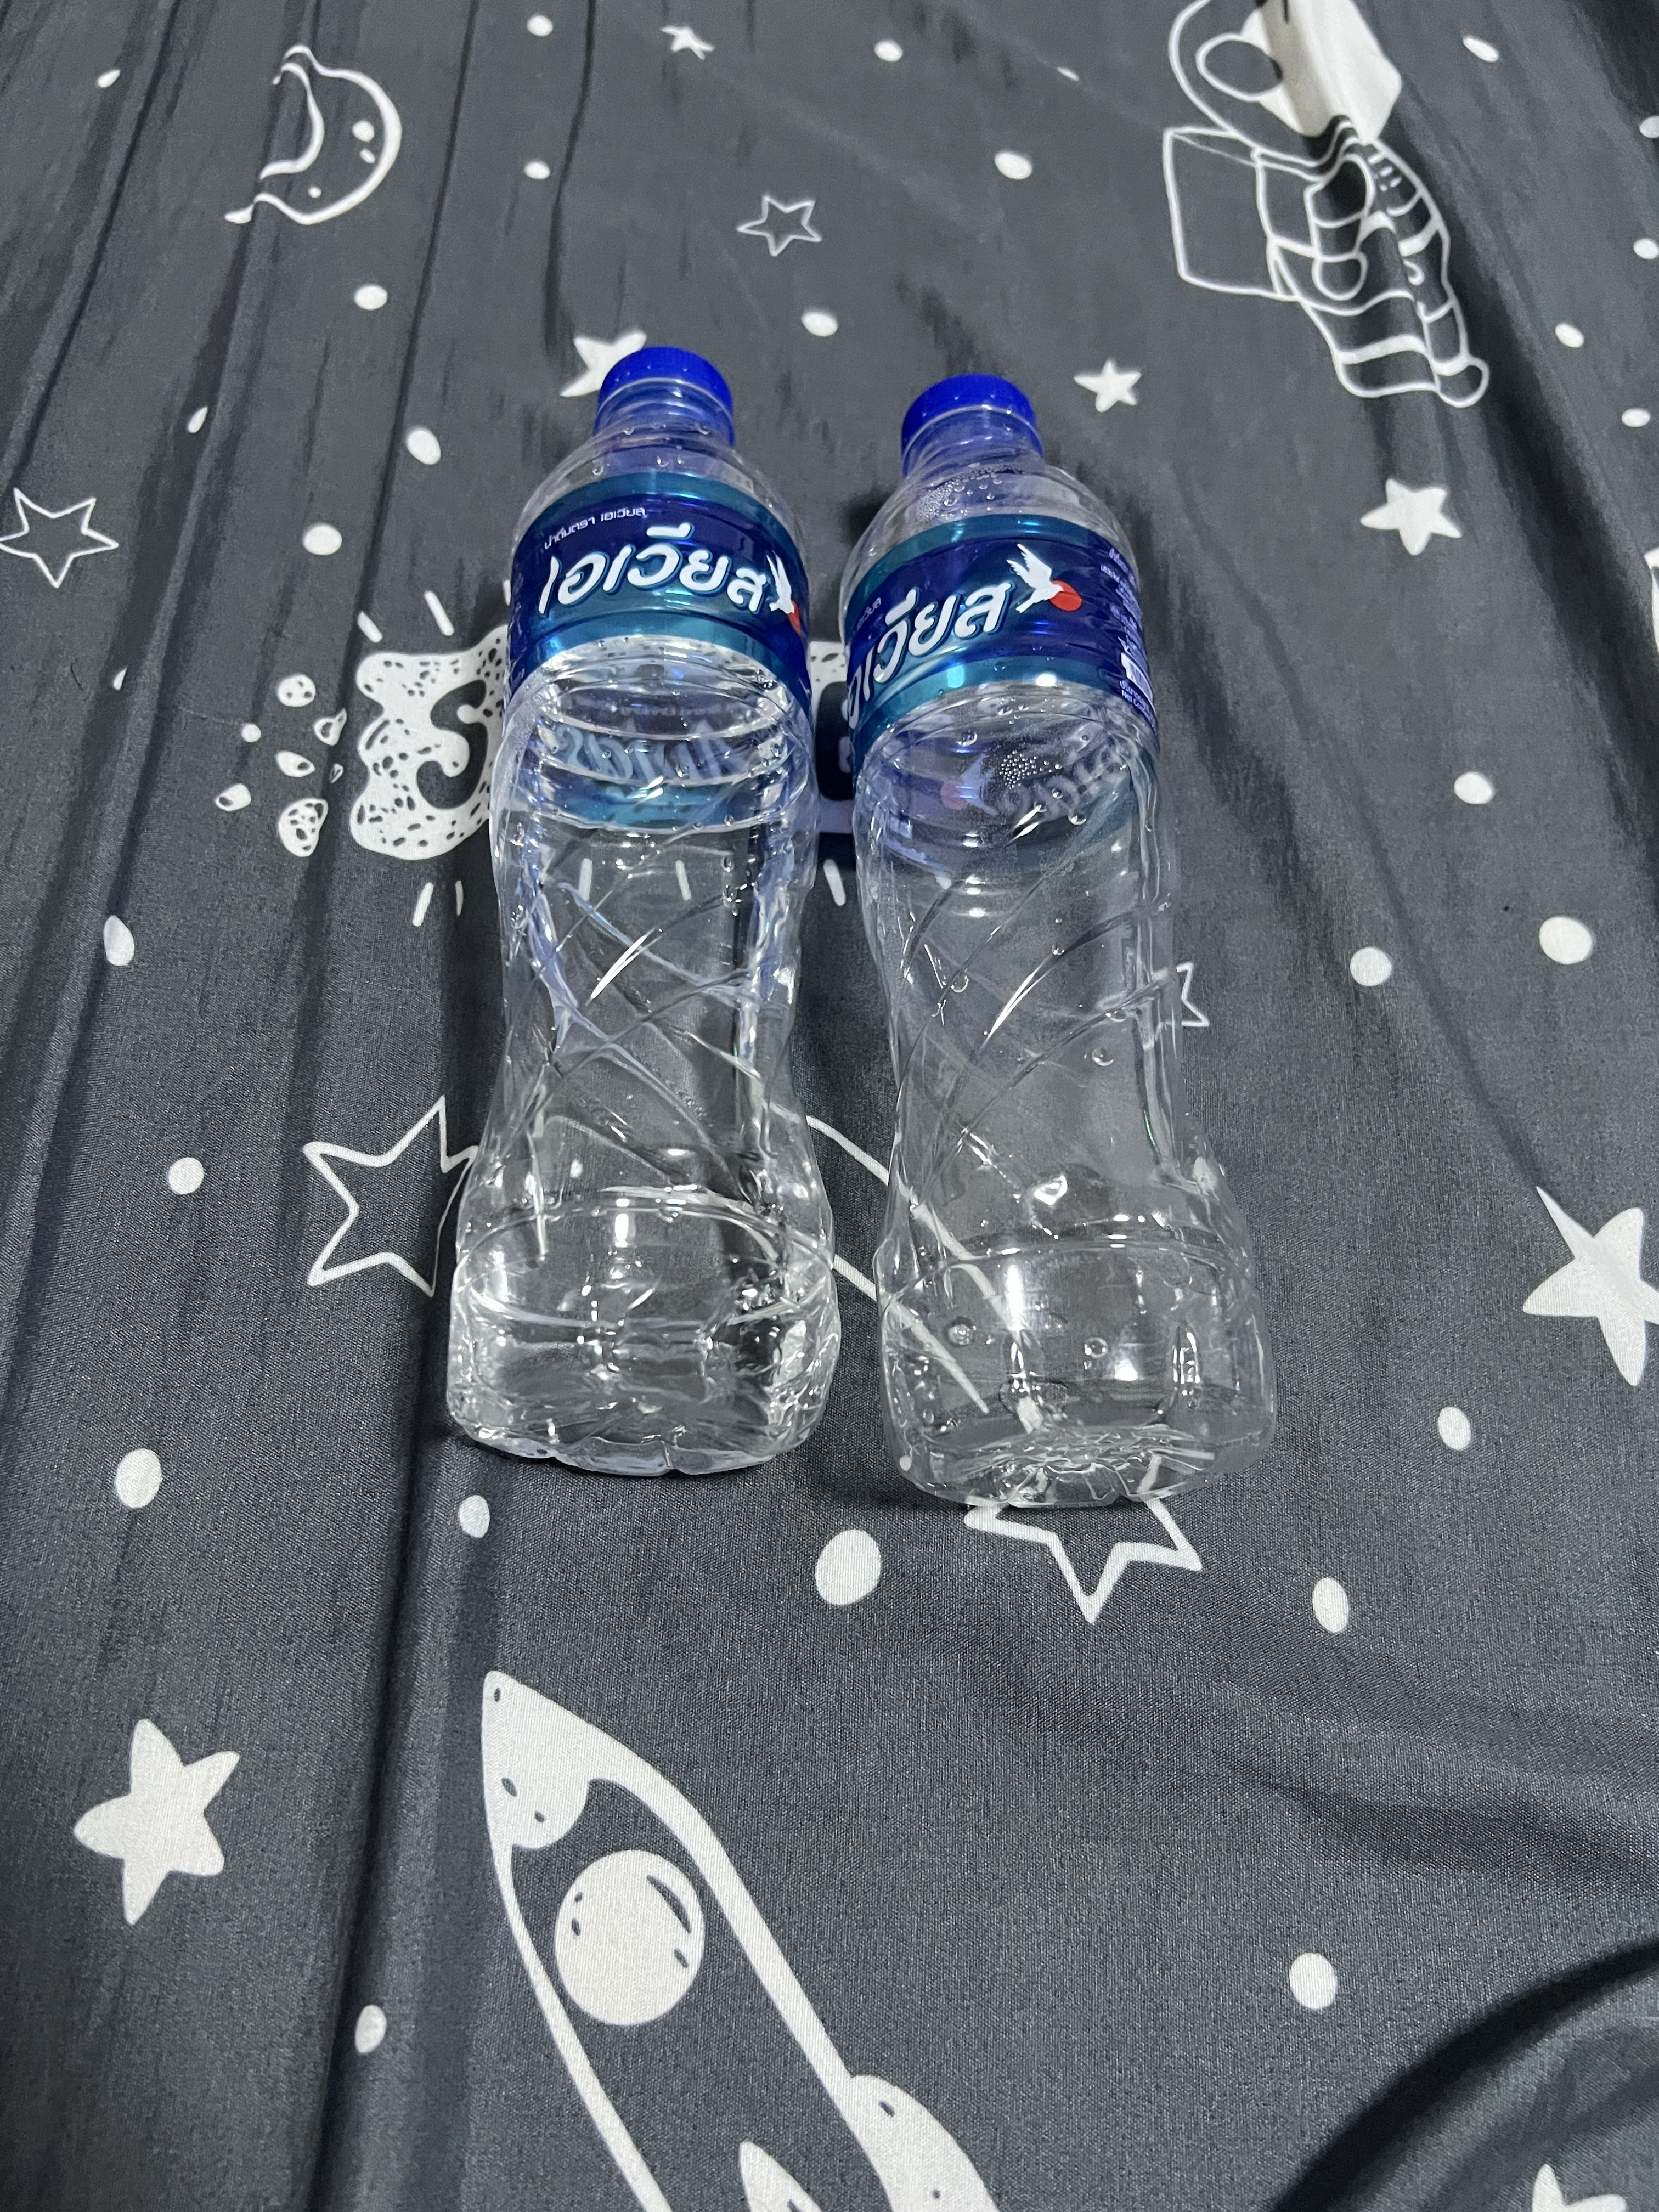plastic_bottle: (819, 352, 1295, 1543), (481, 317, 868, 1522)
